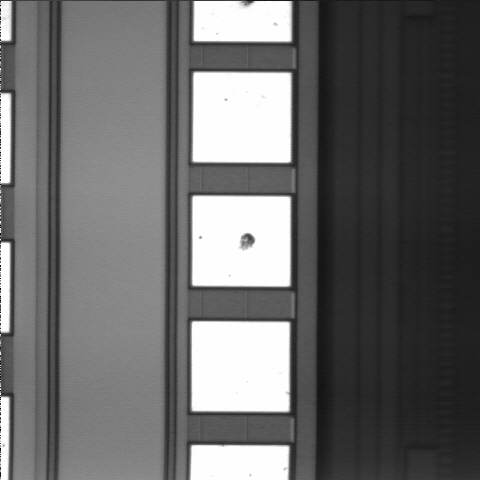pad: (193, 72, 291, 163), (192, 321, 290, 412), (192, 196, 290, 286)
